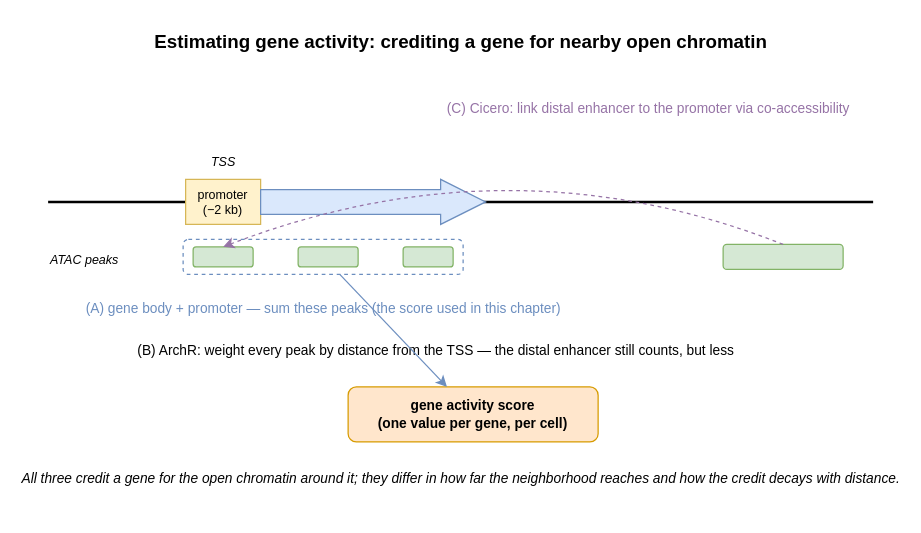
This 921x533 diagram has some shape labels left out. Here are the shapes that lost their labels. From the top down, the box of each, then its label:
(259, 178, 486, 224): gene body
(722, 243, 843, 269): distal enhancer
